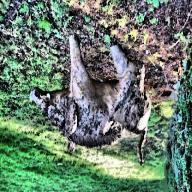boar: (15, 30, 153, 159)
